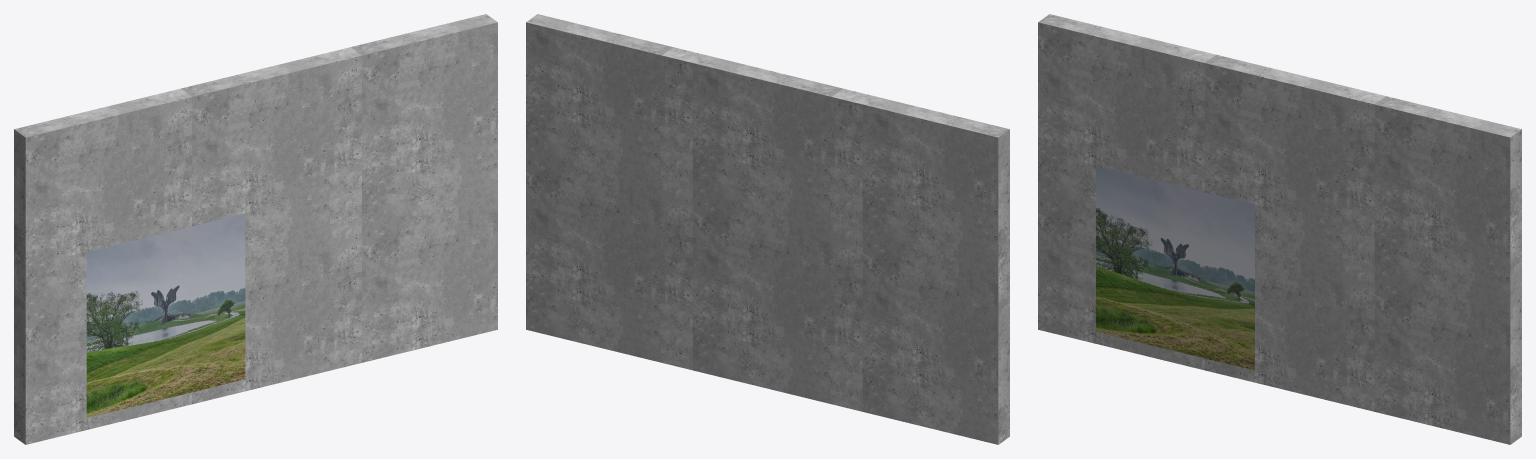
File: spomenikdocumentation.glb
The picture shows the model from 3 angles, left to right: view 1: azimuth 30°, elevation 25°; view 2: azimuth 150°, elevation 25°; view 3: azimuth 330°, elevation 25°; orthographic projection.
Parts seen in each view (by area): view 1: hinterwand, videotarget; view 2: hinterwand; view 3: hinterwand, videotarget.
Part boxes in pixels (left/top/right/bottom): hinterwand: left=14, top=14, right=497, bottom=444; videotarget: left=86, top=213, right=245, bottom=417; hinterwand: left=526, top=14, right=1009, bottom=444; hinterwand: left=1038, top=14, right=1521, bottom=444; videotarget: left=1096, top=166, right=1254, bottom=370.
Bounding box in the file's own units: 11.9 × 7.4 × 0.5636.
2 materials, 2 textured.
